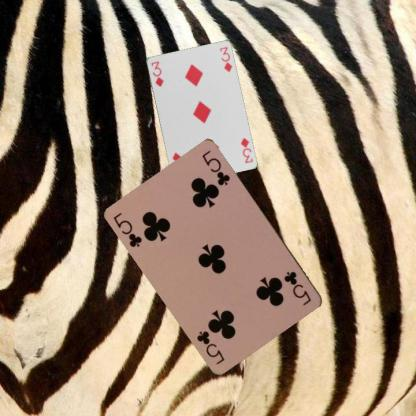3d: (148, 59, 164, 88), (238, 135, 254, 164)
5c: (111, 210, 144, 249), (282, 268, 312, 307)
